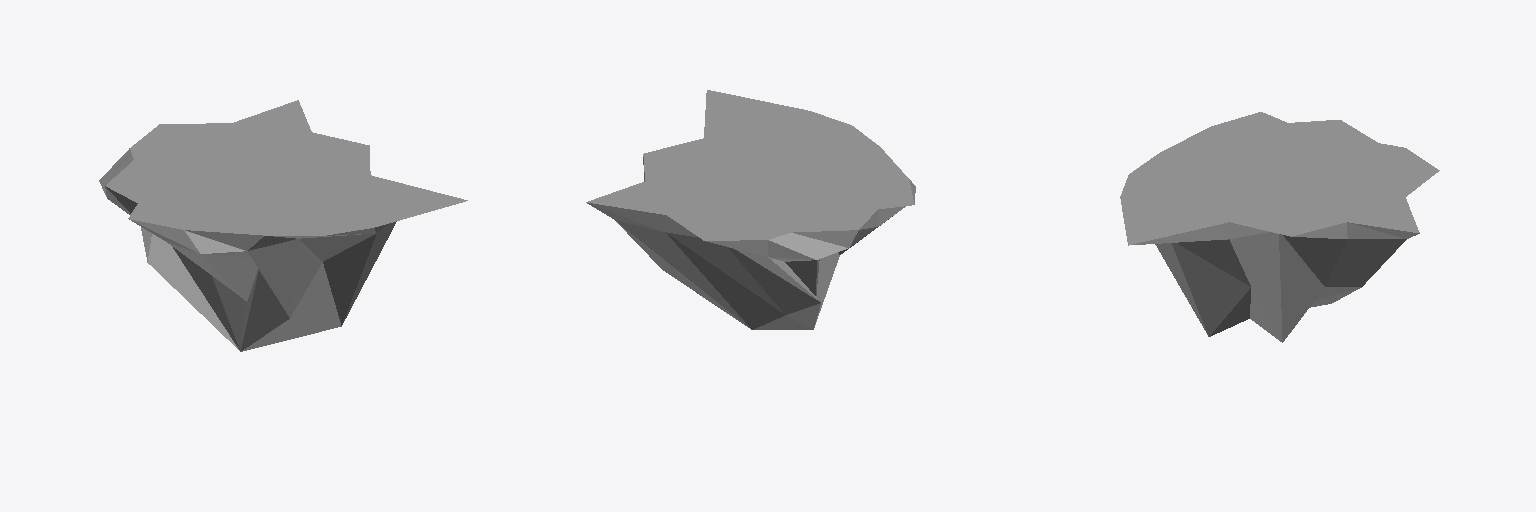
Rendered from Level2Platform2.obj.
The picture shows the model from 3 angles: view 1: azimuth 30°, elevation 25°; view 2: azimuth 150°, elevation 25°; view 3: azimuth 270°, elevation 25°; orthographic projection.
Visible parts, largest first — view 1: Cube; view 2: Cube; view 3: Cube.
Boxes of the visible parts, box(x1,y1,x2,y2) form: Cube: box(99, 100, 467, 351); Cube: box(586, 90, 915, 329); Cube: box(1120, 112, 1439, 342).
Bounding box in the file's own units: 8.62 × 4.65 × 8.7.